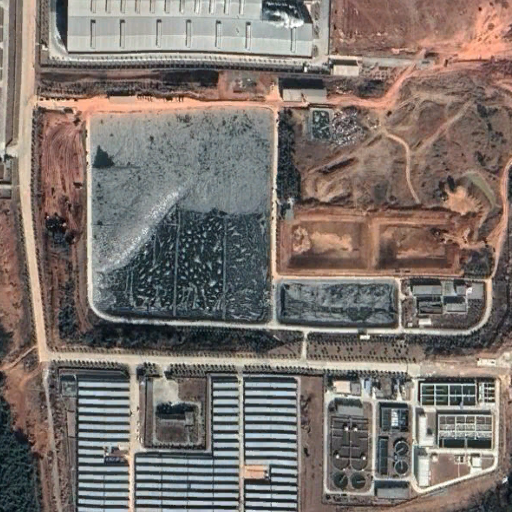lf: (77, 102, 283, 333)
